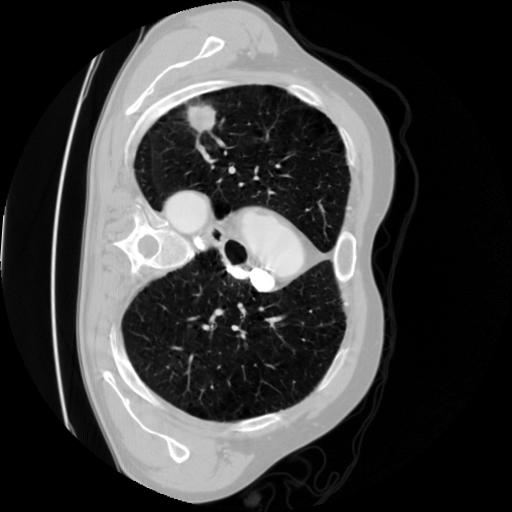nodule: (186, 103, 220, 137)
